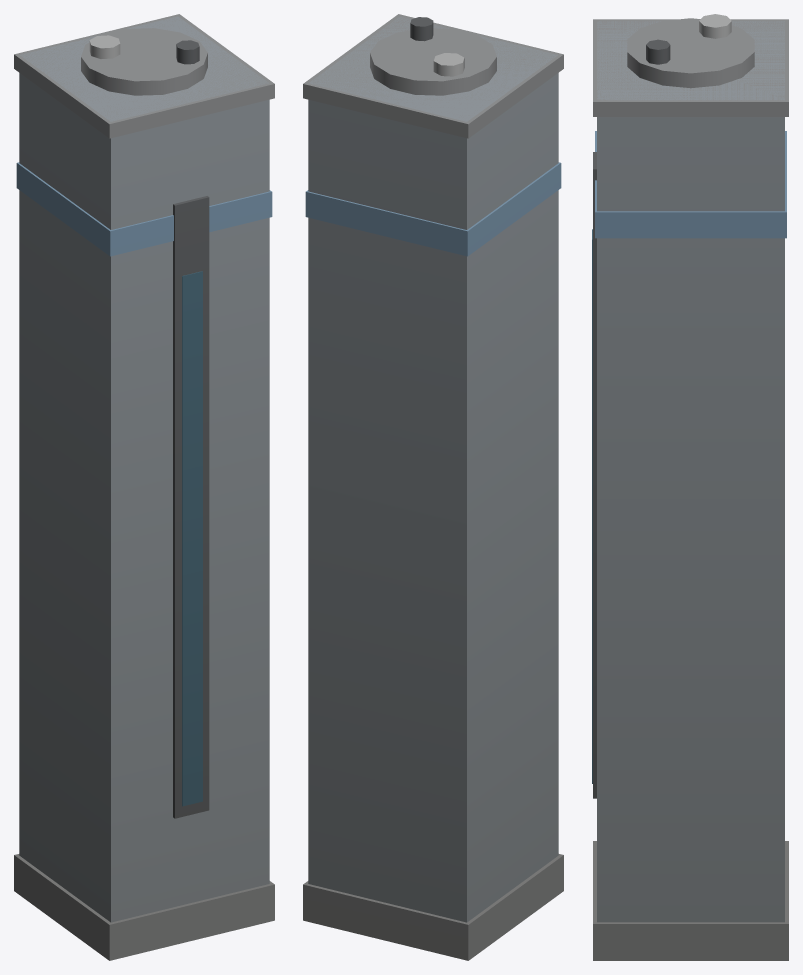
File: modWater_steel.glb
3 views of the same model, side by side, from view 1: azimuth 30°, elevation 25°; view 2: azimuth 150°, elevation 25°; view 3: azimuth 270°, elevation 25° (orthographic). The views are drawn at different scales.
Parts seen in each view (by area): view 1: modWater_steel; view 2: modWater_steel; view 3: modWater_steel.
Part boxes in pixels (x1,y1,x2,y2): modWater_steel: (14,14,274,960); modWater_steel: (303,14,563,960); modWater_steel: (592,14,788,960).
Size of the model in its own units: 0.48 by 2.4 by 0.482.
